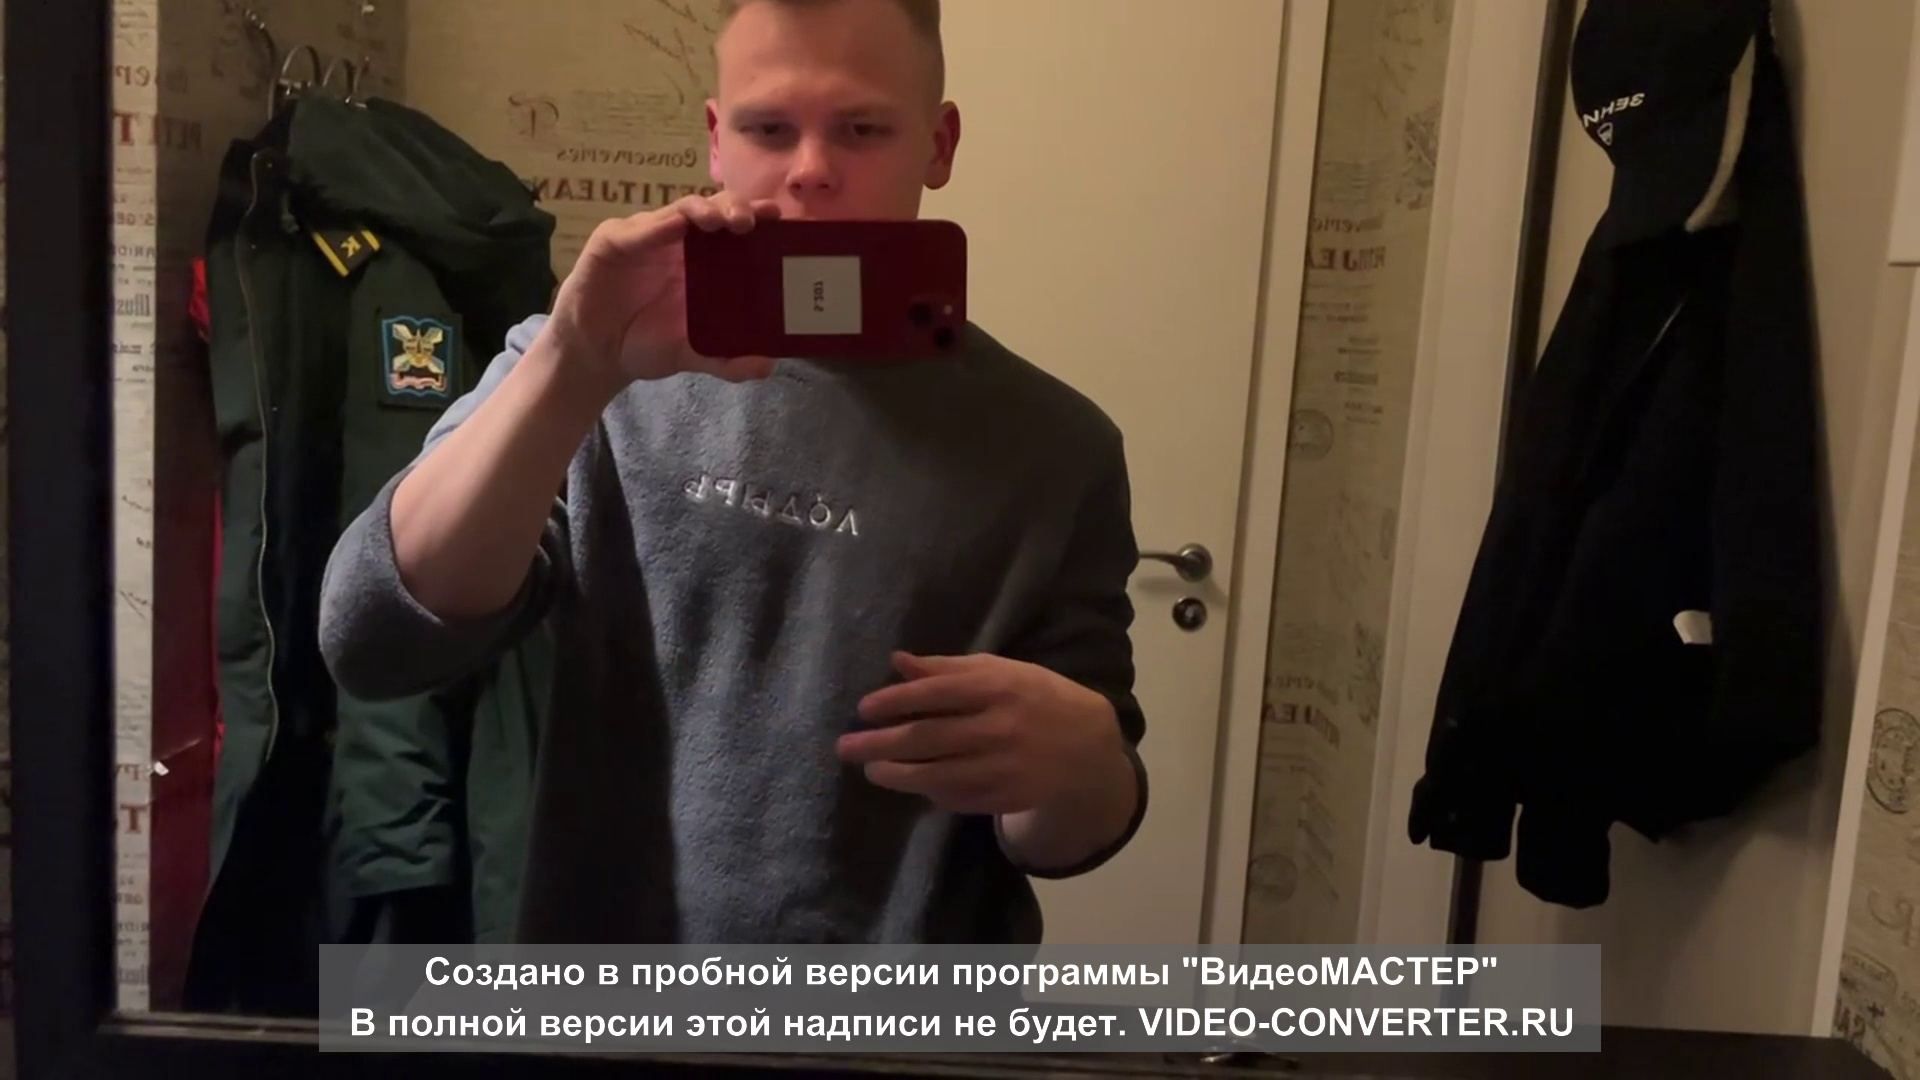Кисть: (832, 649, 1098, 816)
